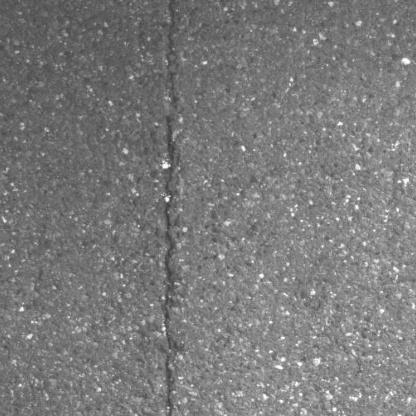Cracks: (151, 0, 189, 416)
